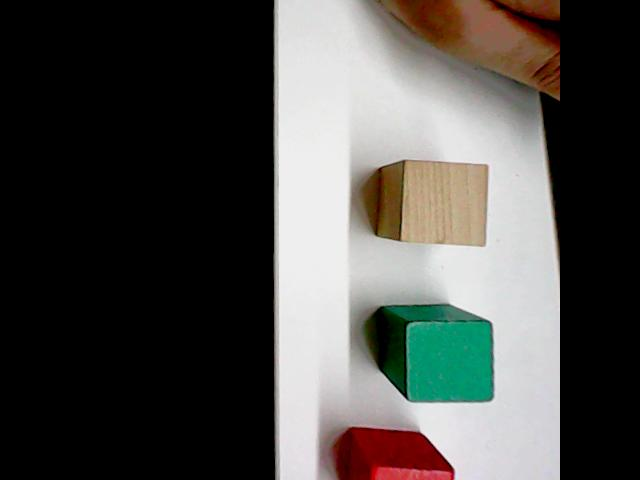green_box: (374, 300, 498, 405)
raw_box: (371, 156, 493, 248)
red_box: (335, 424, 460, 480)
